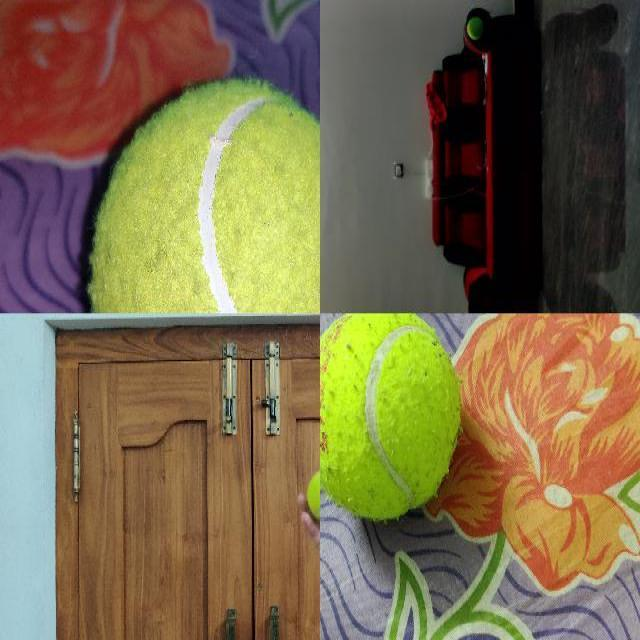tennis-ball: (88, 76, 319, 312), (320, 313, 461, 523), (306, 465, 319, 523), (466, 16, 484, 40)
